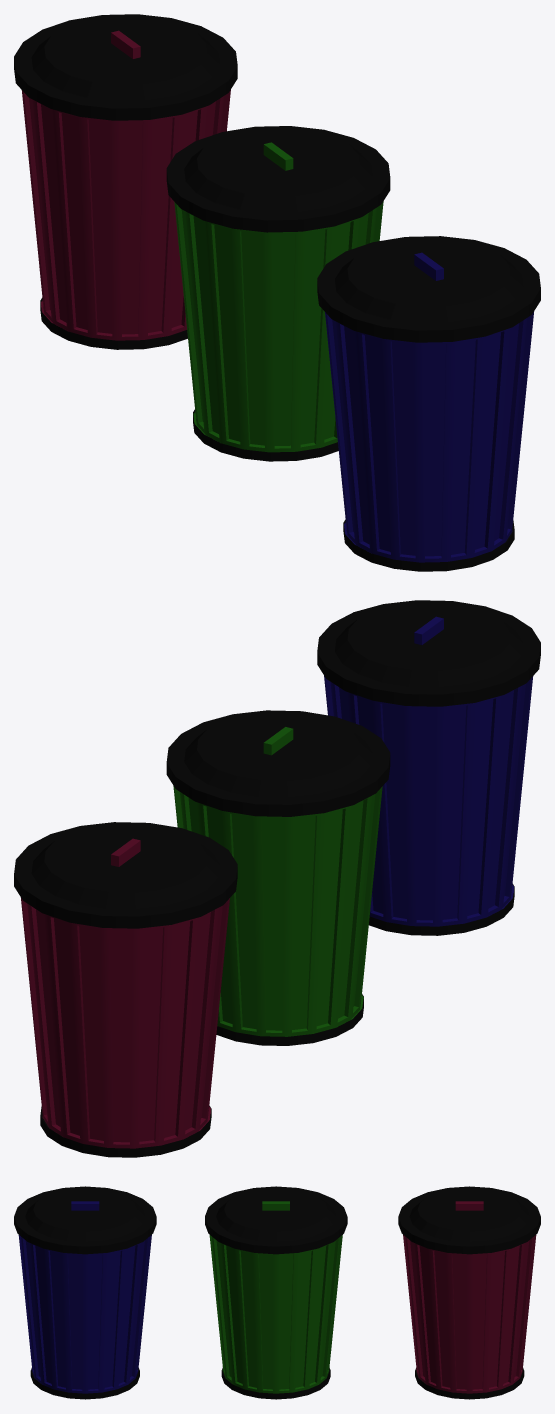
File: Bin_Beta_Coloured.fbx
3 renders of one model, top to bottom at view 1: azimuth 30°, elevation 25°; view 2: azimuth 150°, elevation 25°; view 3: azimuth 270°, elevation 25°, orthographic. The views are drawn at different scales.
Parts seen in each view (by area): view 1: pCube3, pCube4, pCube2; view 2: pCube4, pCube2, pCube3; view 3: pCube3, pCube4, pCube2.
Part boxes in pixels (<box>): pCube3: <box>317,236,540,571</box>; pCube4: <box>14,14,237,349</box>; pCube2: <box>166,126,390,461</box>; pCube4: <box>14,822,237,1157</box>; pCube2: <box>166,710,390,1045</box>; pCube3: <box>317,600,540,935</box>; pCube3: <box>14,1186,156,1399</box>; pCube4: <box>398,1186,540,1399</box>; pCube2: <box>205,1186,347,1399</box>.
Size of the model in its own units: 116 by 156 by 429.
Materials: 3 (3 with a texture image).
